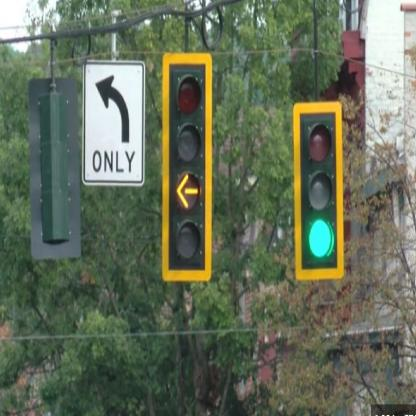green: (301, 115, 339, 268)
left-yellow: (169, 64, 204, 269)
